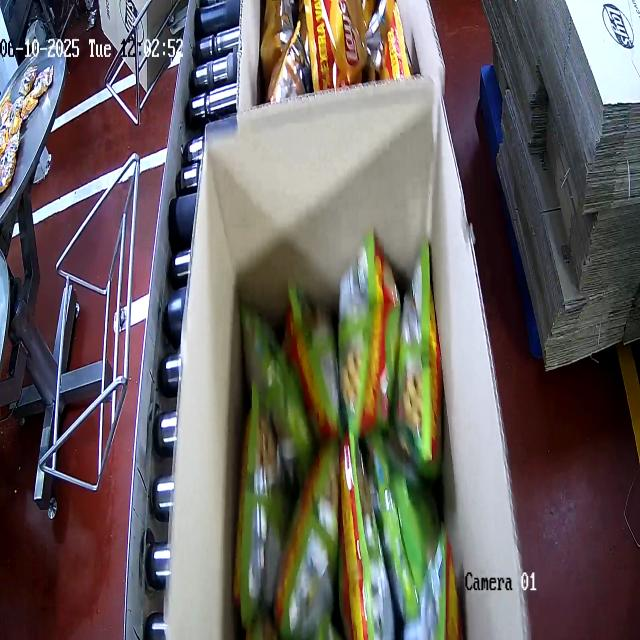FRENCH_CHEESE: (261, 0, 405, 103)
YOGURT_HERB: (225, 236, 462, 640)
